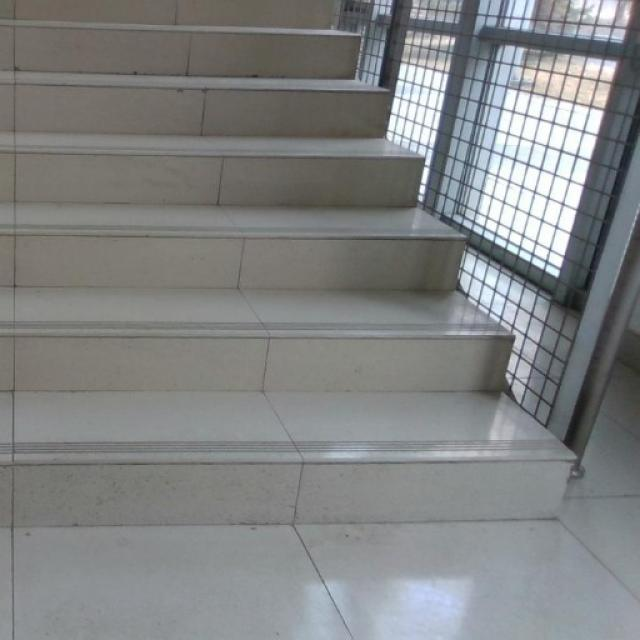stair: (0, 6, 567, 550)
